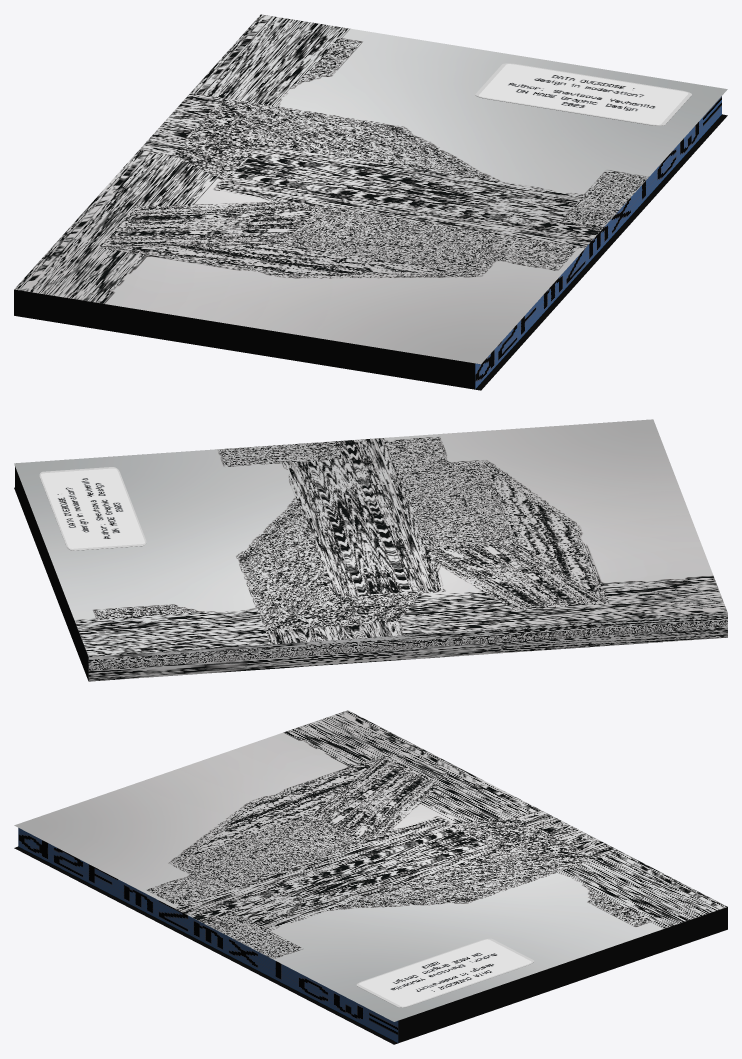
3 renders of one model, top to bottom at view 1: azimuth 30°, elevation 25°; view 2: azimuth 150°, elevation 25°; view 3: azimuth 270°, elevation 25°, orthographic. The views are drawn at different scales.
Visible parts, largest first — view 1: Cube, label; view 2: Cube, label; view 3: Cube, label.
Boxes of the visible parts, box(x1,y1,x2,y2) form: Cube: box(14, 14, 727, 390); label: box(475, 63, 691, 125); Cube: box(14, 419, 727, 681); label: box(39, 467, 146, 550); Cube: box(14, 710, 727, 1044); label: box(356, 938, 534, 1007).
Size of the model in its own units: 29.48 by 1.04 by 28.52.
